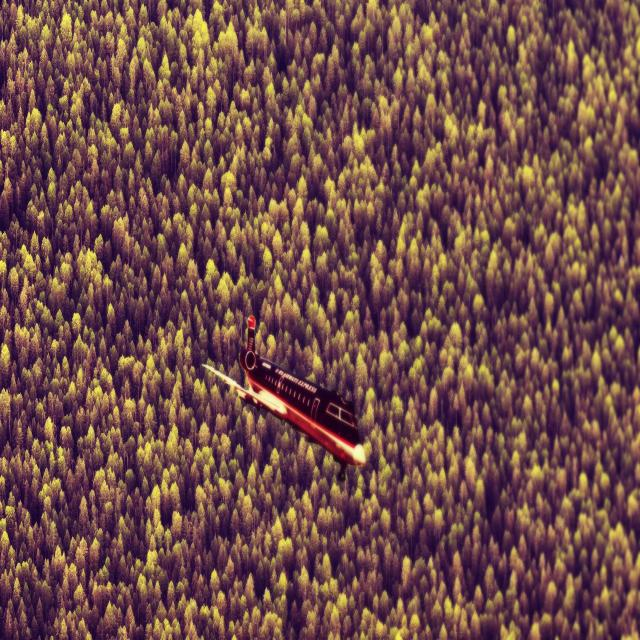airplane: (200, 314, 367, 481)
